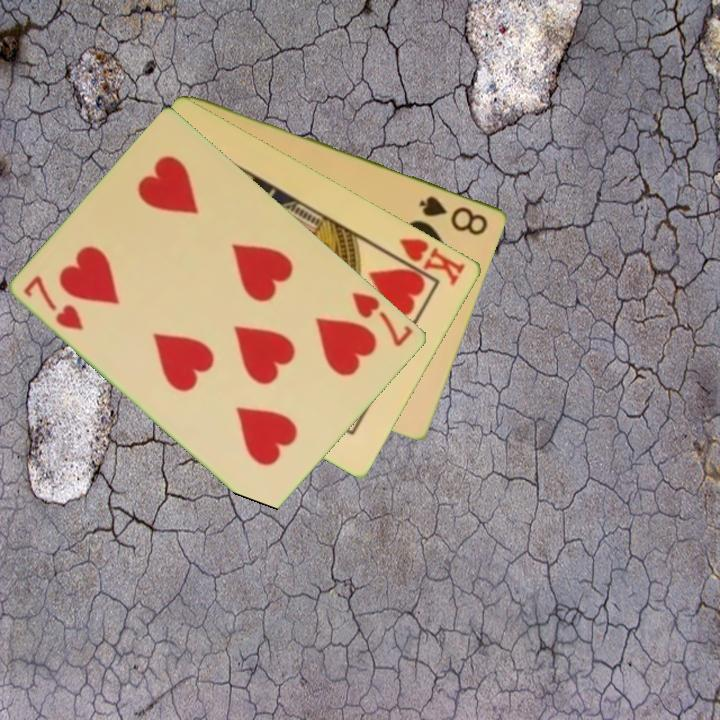7h: (21, 271, 87, 334), (349, 288, 416, 350)
8s: (416, 192, 492, 238)
Kh: (385, 234, 469, 289)
